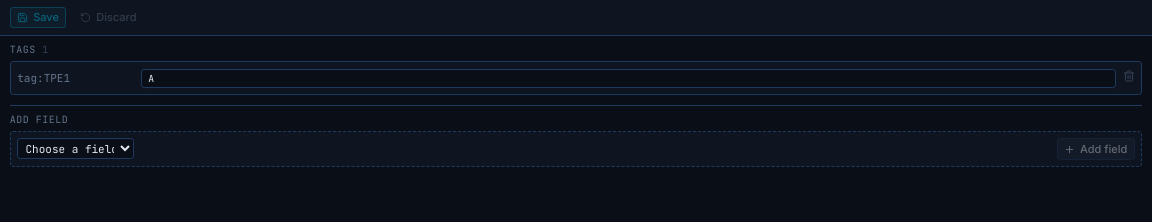
Test case: add field › a pending addition can be removed and the section is hidden without addable fields
Select "Title (tag:TIT2)" in the dropdown named "Field to add": x=76, y=149 x1=17 y1=138 x2=134 y2=159
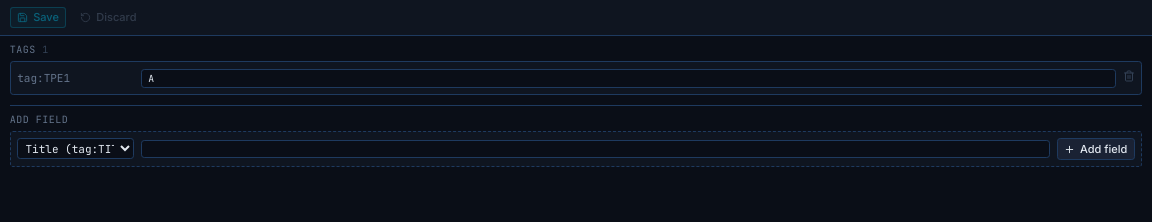
In the field named "New Title": x=596, y=149 x1=141 y1=140 x2=1050 y2=158, type "X"
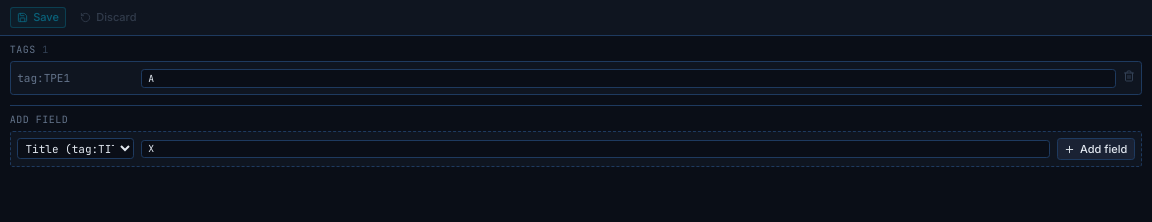
Click the button "Add field": x=1096, y=149 x1=1057 y1=138 x2=1135 y2=160
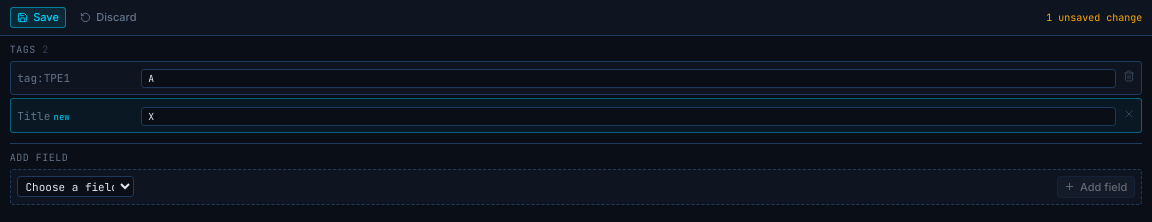
Now the text "1 unsaved change" is shown, box x1=1046 y1=10 x2=1142 y2=25
Click the button named "Remove new Title": x=1129, y=113 x1=1123 y1=106 x2=1135 y2=120
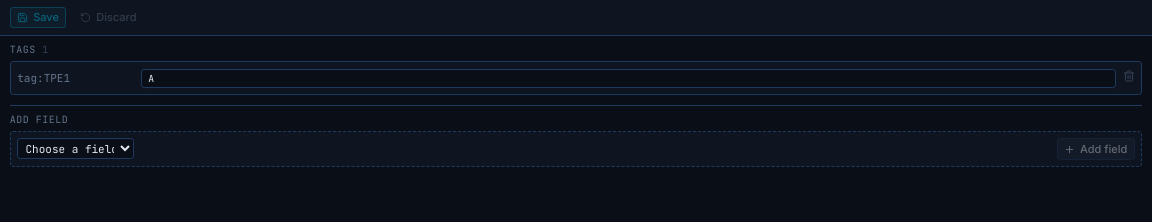
Now the text "unsaved change" is gone
